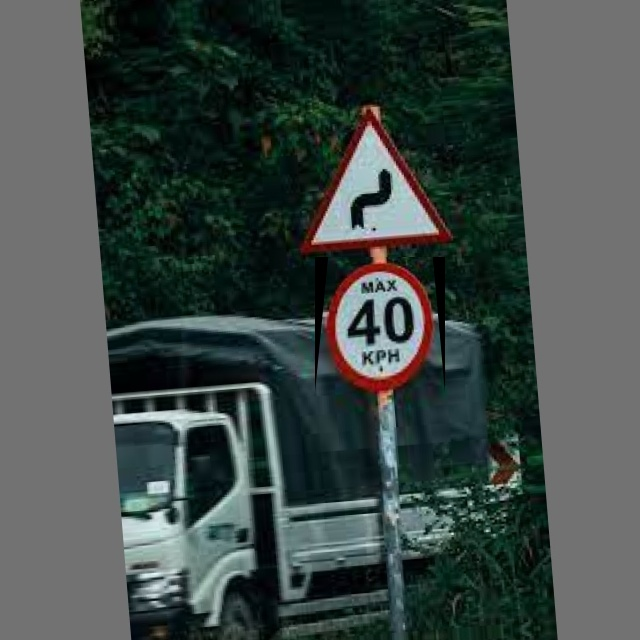Speed_Limit_40: (315, 257, 445, 393)
